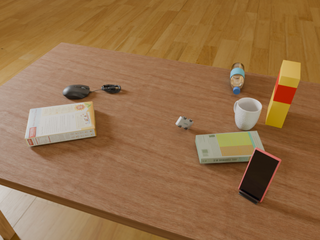book: (196, 131, 265, 163)
bottle: (230, 63, 244, 94)
box: (25, 102, 96, 146), (266, 60, 300, 128)
cup: (234, 98, 262, 130)
mouse: (63, 85, 90, 99)
phone: (239, 147, 281, 202)
toy_car: (176, 116, 193, 130)
